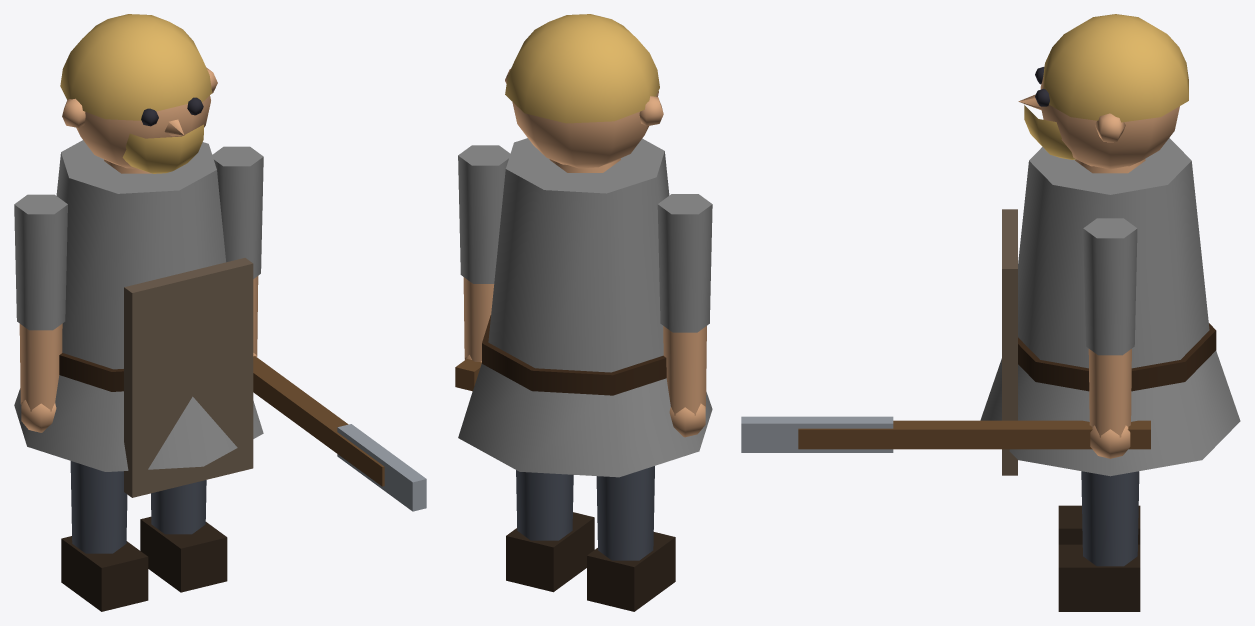
File: w_steinmetz.glb
3 views of the same model, side by side, from view 1: azimuth 30°, elevation 25°; view 2: azimuth 150°, elevation 25°; view 3: azimuth 270°, elevation 25° (orthographic). The views are drawn at different scales.
Parts seen in each view (by area): view 1: worker, arm_r, arm_l, leg_l, leg_r; view 2: worker, arm_l, leg_l, arm_r, leg_r; view 3: worker, arm_r, leg_r, leg_l.
Boxes of the visible parts, left/top/right/bottom form: worker: left=14, top=14, right=263, bottom=497; arm_r: left=212, top=146, right=426, bottom=511; arm_l: left=14, top=194, right=67, bottom=432; leg_l: left=61, top=461, right=148, bottom=611; leg_r: left=140, top=480, right=227, bottom=592; worker: left=458, top=14, right=712, bottom=477; arm_l: left=657, top=194, right=712, bottom=437; leg_l: left=587, top=466, right=675, bottom=611; arm_r: left=455, top=145, right=510, bottom=391; leg_r: left=506, top=470, right=594, bottom=592; worker: left=980, top=14, right=1240, bottom=476; arm_r: left=741, top=218, right=1150, bottom=458; leg_r: left=1058, top=471, right=1140, bottom=611; leg_l: left=1058, top=505, right=1140, bottom=544.
Bounding box in the file's own units: 0.4053 × 0.9112 × 0.736.
